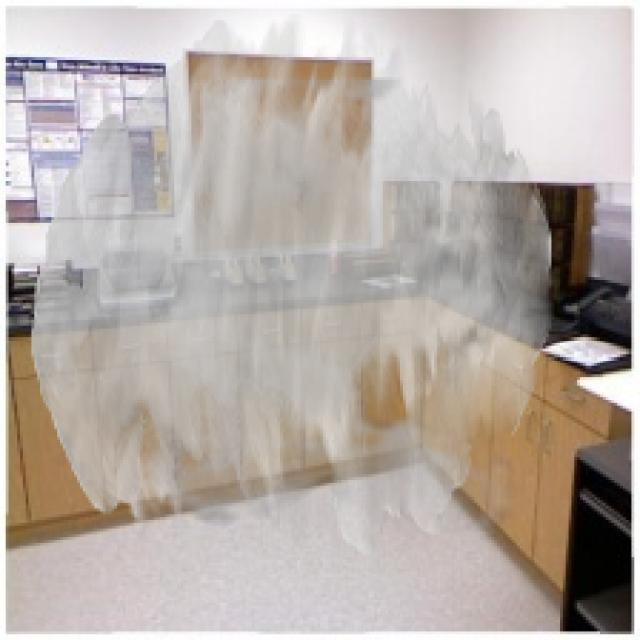smoke: (32, 14, 554, 557)
